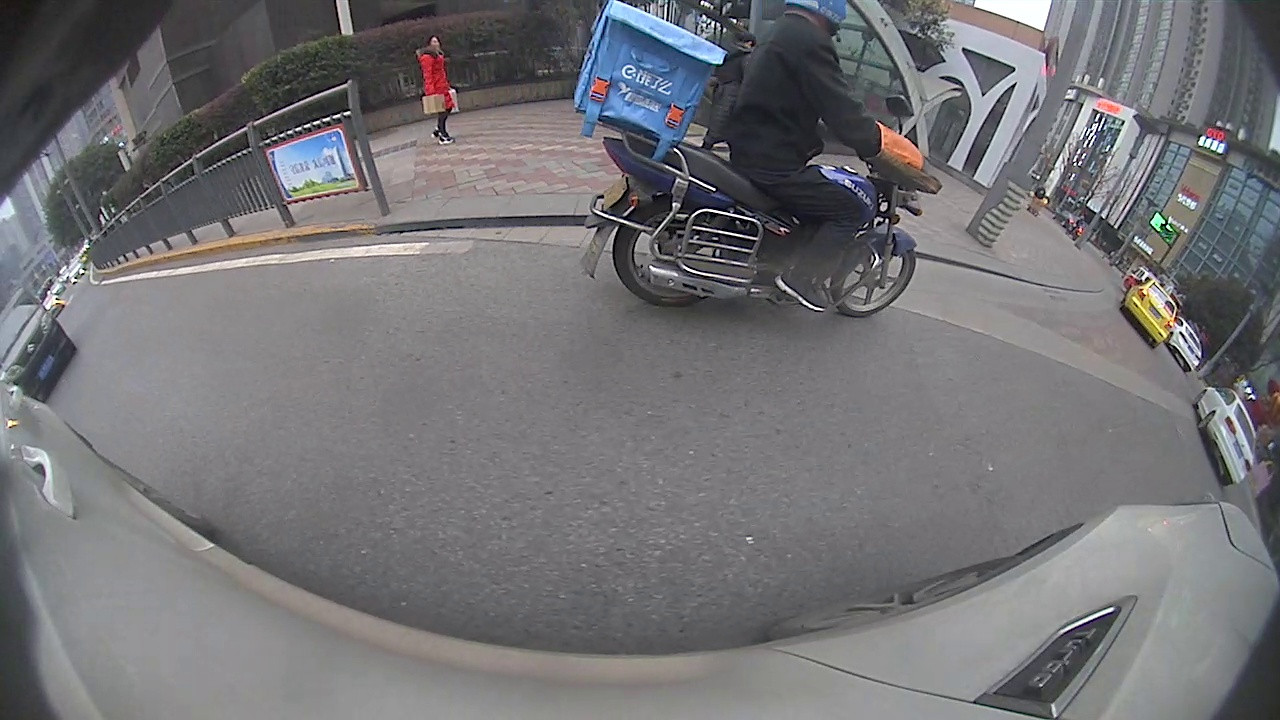car: (1, 285, 79, 403), (1190, 384, 1257, 486), (1121, 277, 1179, 348)
front: (831, 239, 918, 319)
person: (417, 34, 444, 140)
rear: (612, 199, 729, 308)
rider: (574, 1, 943, 319)
